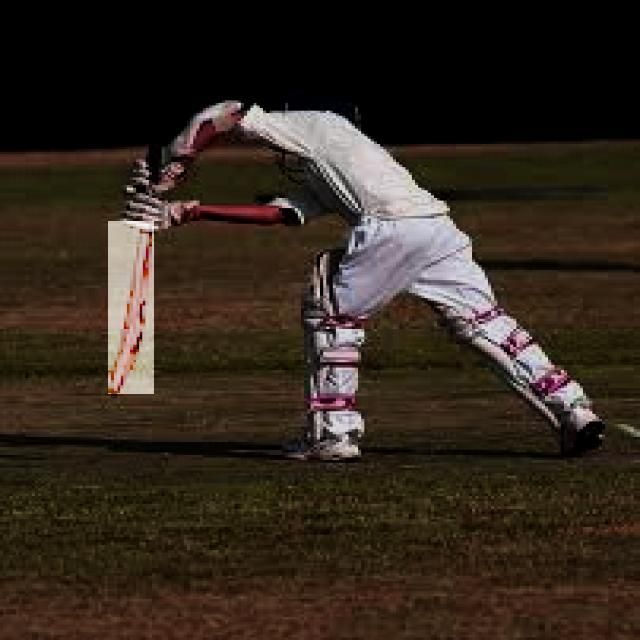bat: (105, 220, 156, 397)
toe: (95, 373, 133, 406)
